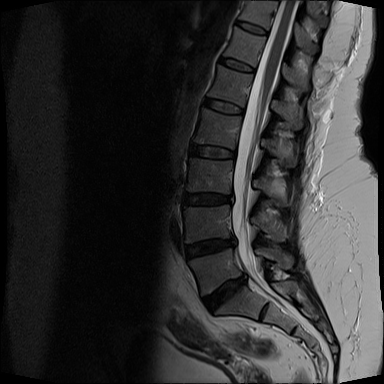Lumbar Disc Bulge (LDB): (196, 268, 253, 319), (179, 231, 240, 265), (178, 187, 241, 212)
Normal IVD: (196, 93, 247, 120), (187, 143, 237, 163), (213, 55, 257, 76), (231, 20, 272, 39)
Spinal Stenosis (SS): (224, 231, 238, 253), (236, 270, 251, 290), (226, 190, 237, 206)
